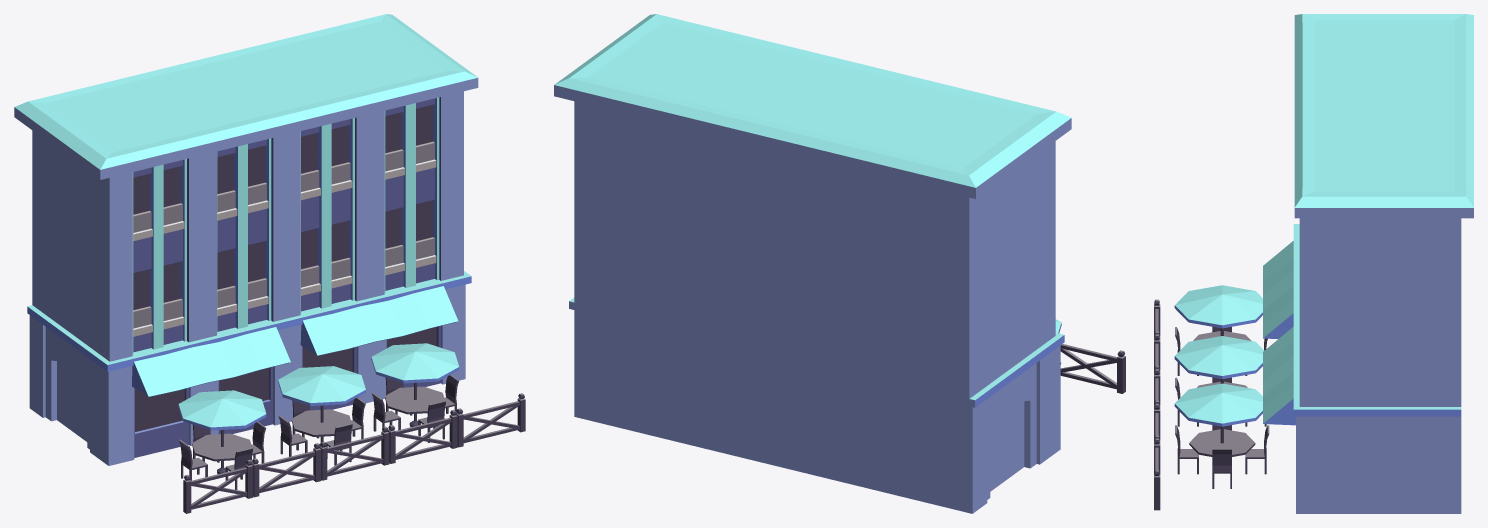
File: BLUE_cafe.fbx
The picture shows the model from 3 angles, left to right: view 1: azimuth 30°, elevation 25°; view 2: azimuth 150°, elevation 25°; view 3: azimuth 270°, elevation 25°; orthographic projection. The views are drawn at different scales.
Visible parts, largest first — view 1: pCube76, pasted__pCube22, pasted__pCube23, pCylinder19, pCylinder15, pCylinder18, pCylinder14, pCylinder17, pCylinder20; view 2: pCube76; view 3: pCube76, pCylinder19, pCylinder15, pCylinder18, pasted__pCube23, pasted__pCube22, pCylinder17, pCube80.
Boxes of the visible parts, x1,y1,x2,y2 form: pCube76: (14, 14, 478, 465); pasted__pCube22: (132, 327, 290, 396); pasted__pCube23: (300, 286, 458, 355); pCylinder19: (178, 390, 266, 430); pCylinder15: (371, 343, 459, 383); pCylinder18: (278, 366, 365, 406); pCylinder14: (291, 409, 352, 436); pCylinder17: (385, 386, 445, 414); pCylinder20: (192, 433, 252, 461); pCube76: (554, 14, 1071, 513); pCube76: (1293, 14, 1473, 513); pCylinder19: (1174, 285, 1262, 328); pCylinder15: (1174, 383, 1262, 426); pCylinder18: (1174, 336, 1264, 379); pasted__pCube23: (1263, 327, 1295, 425); pasted__pCube22: (1263, 241, 1293, 338); pCylinder17: (1189, 429, 1255, 456); pCube80: (1212, 448, 1231, 471).
Size of the model in its own units: 14.79 by 11.41 by 10.38.
